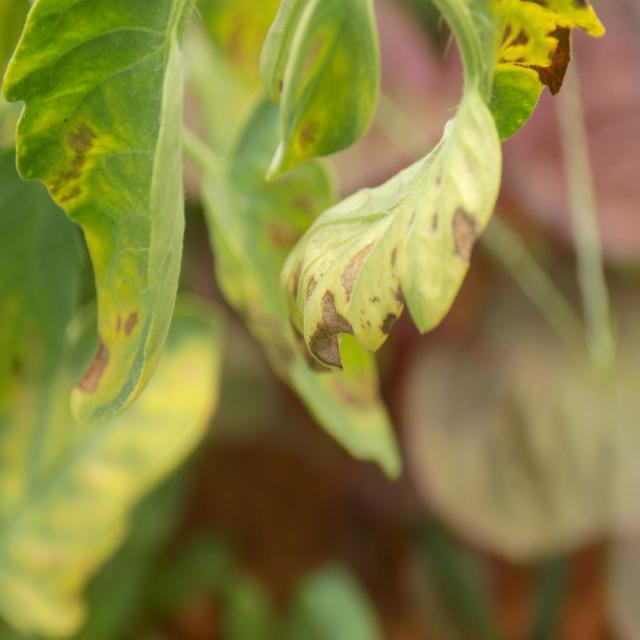tomato_early blight: (284, 0, 606, 377)
